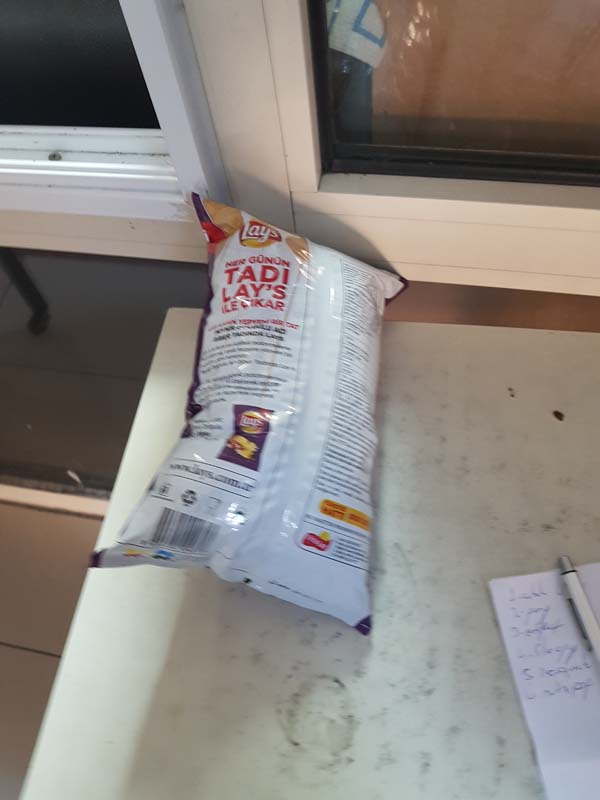layspeynirsoslu: (105, 193, 413, 644)
